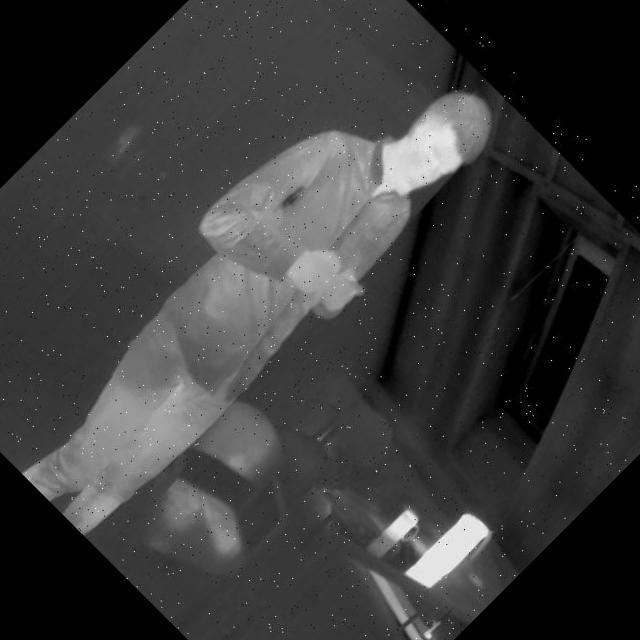person: (0, 17, 520, 559)
